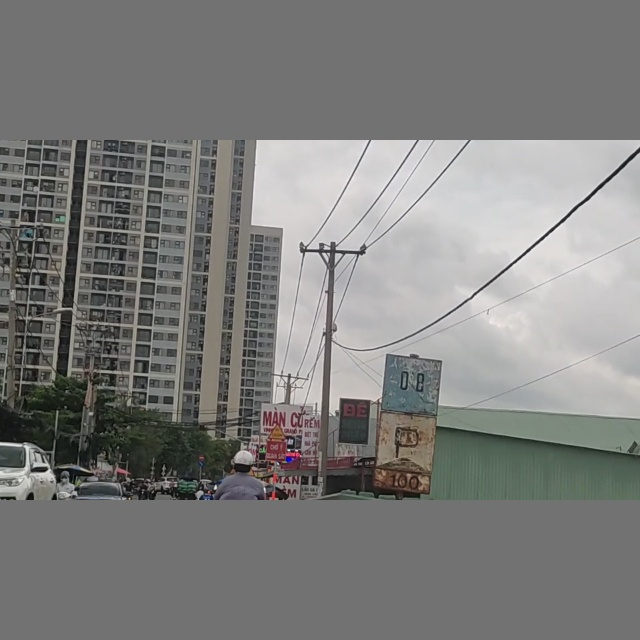W.245a: (267, 423, 287, 440)
